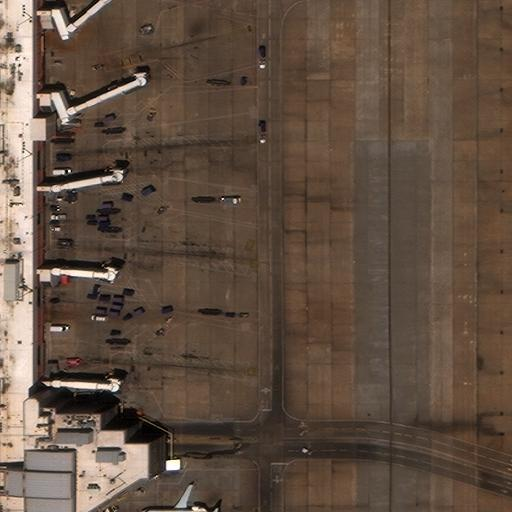Medium Civil Transport: (139, 483, 216, 512)
